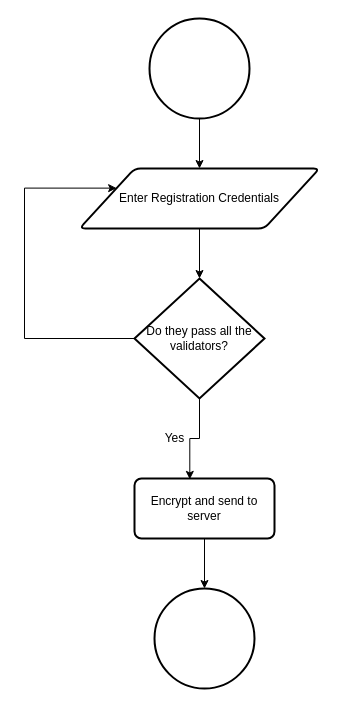
This 338x706 diagram has some shape labels left out. Here are the shapes that lost their labels. From the top down, the centre of each, then its label:
(x=199, y=68): Start
(x=204, y=638): Stop
